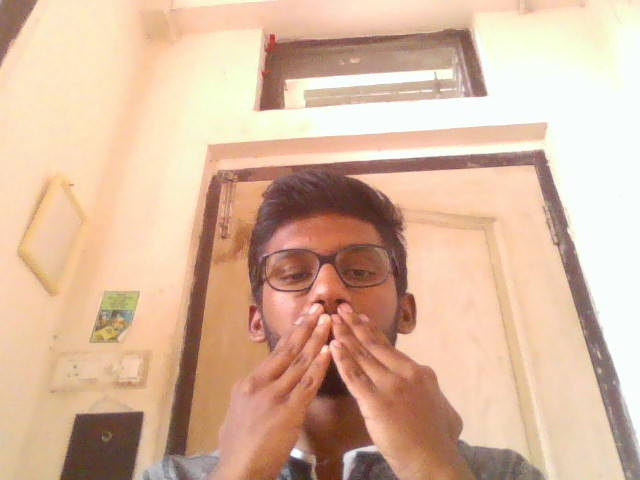Thank You: (216, 300, 469, 480)
